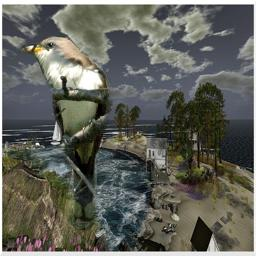Cuckoo: (19, 36, 113, 230)
